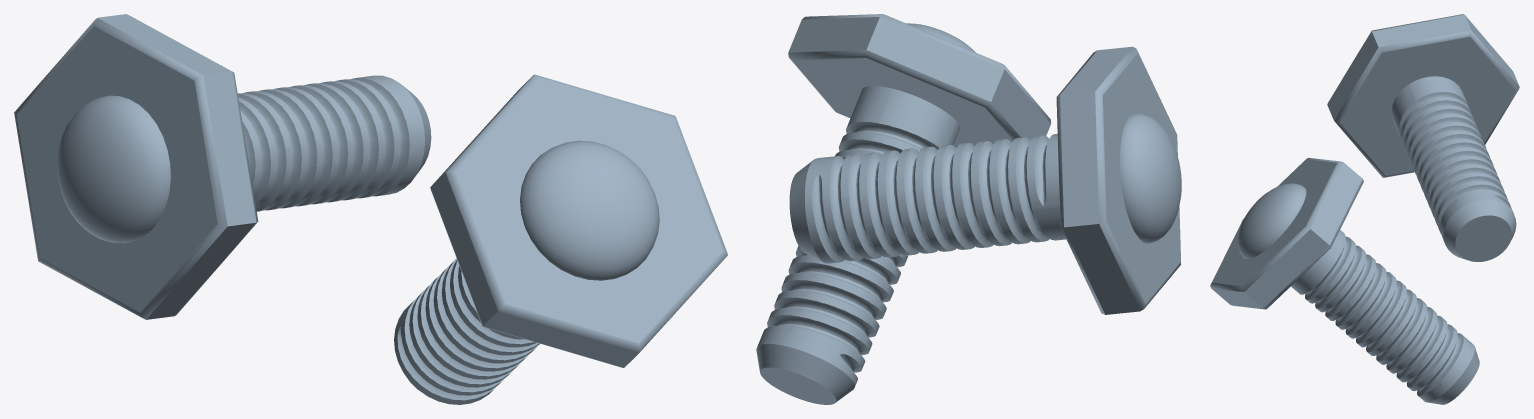
File: neji.glb
The picture shows the model from 3 angles, left to right: view 1: azimuth 30°, elevation 25°; view 2: azimuth 150°, elevation 25°; view 3: azimuth 270°, elevation 25°; orthographic projection. The views are drawn at different scales.
Visible parts, largest first — view 1: 円柱; view 2: 円柱; view 3: 円柱.
Part boxes in pixels (<box>): 円柱: <box>14,14,727,404</box>; 円柱: <box>756,14,1181,404</box>; 円柱: <box>1210,14,1519,404</box>.
Size of the model in its own units: 9.32 by 7.82 by 7.77.
